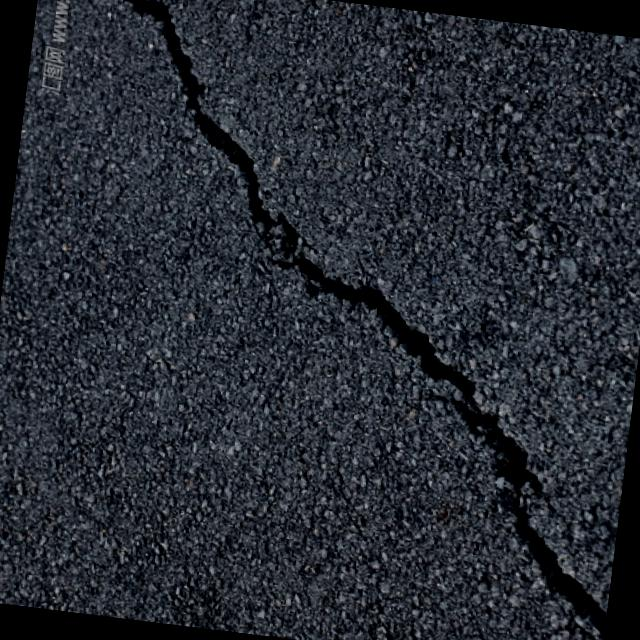crack: (257, 271, 640, 640), (67, 0, 378, 277)
